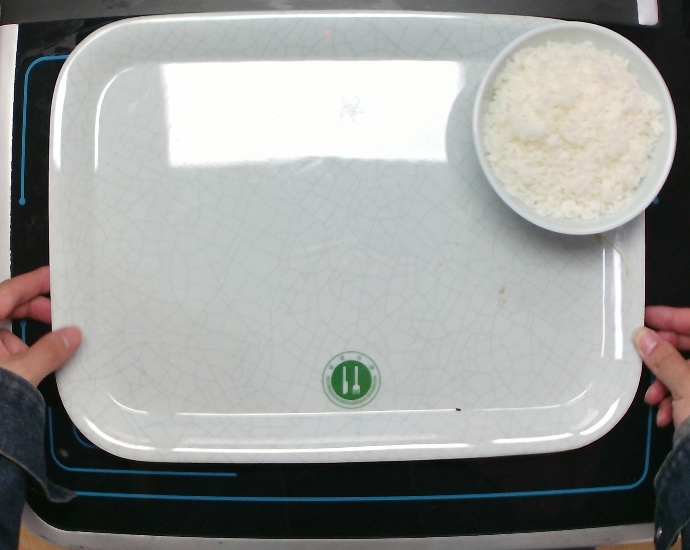JYsf-Fan_Wan: (470, 20, 678, 238)
